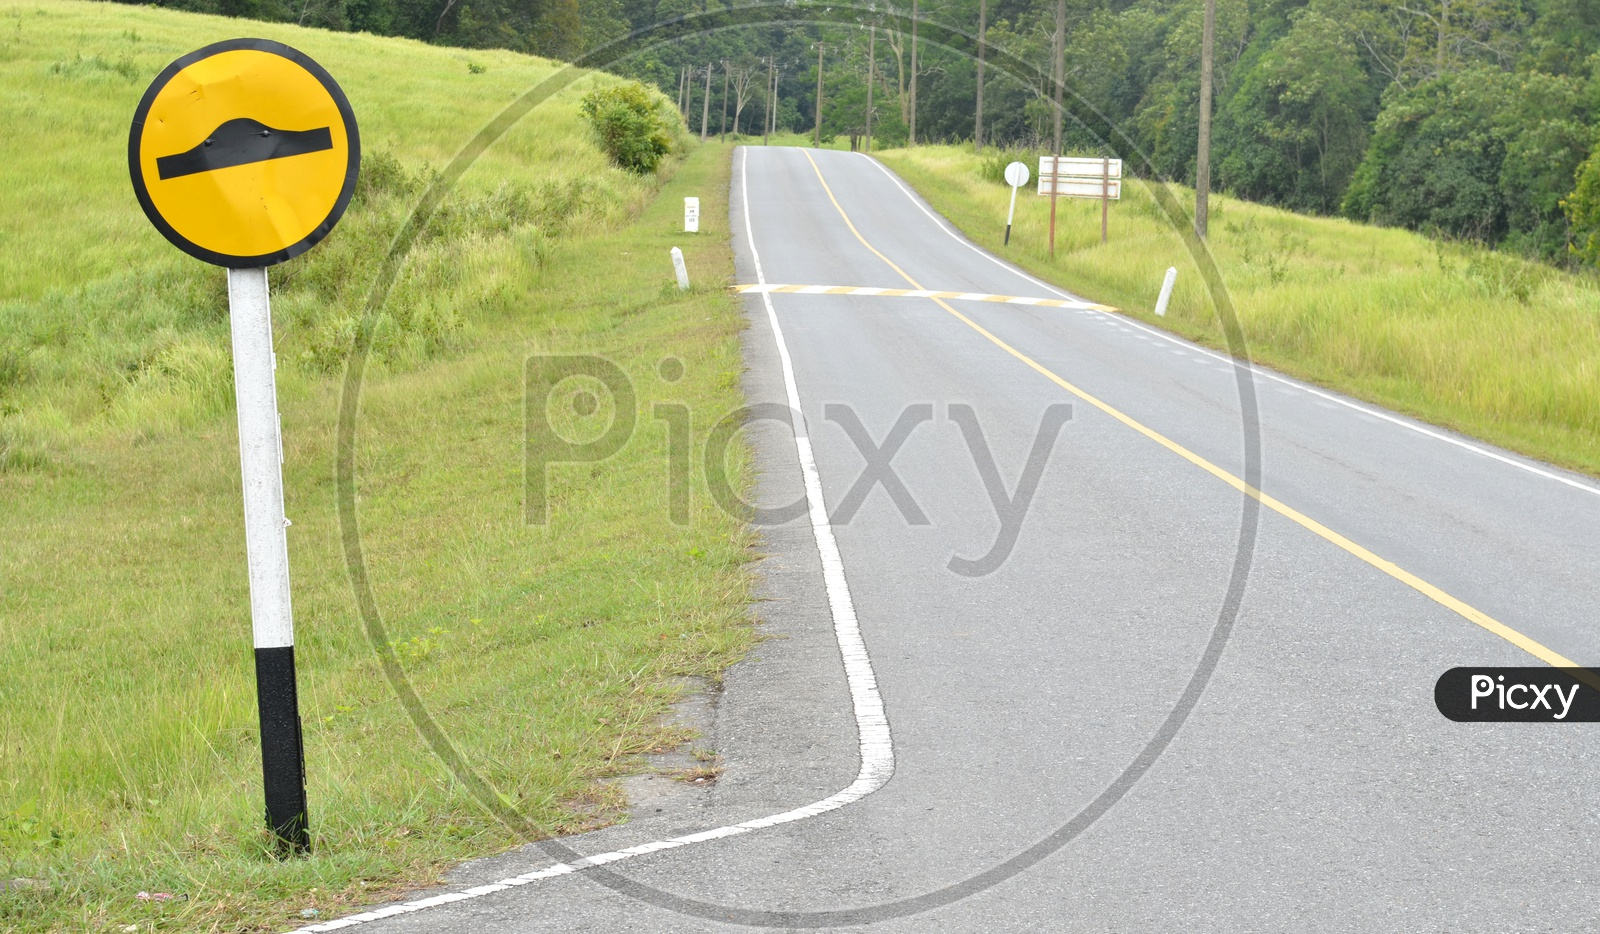speed-breaker: (133, 38, 357, 250)
